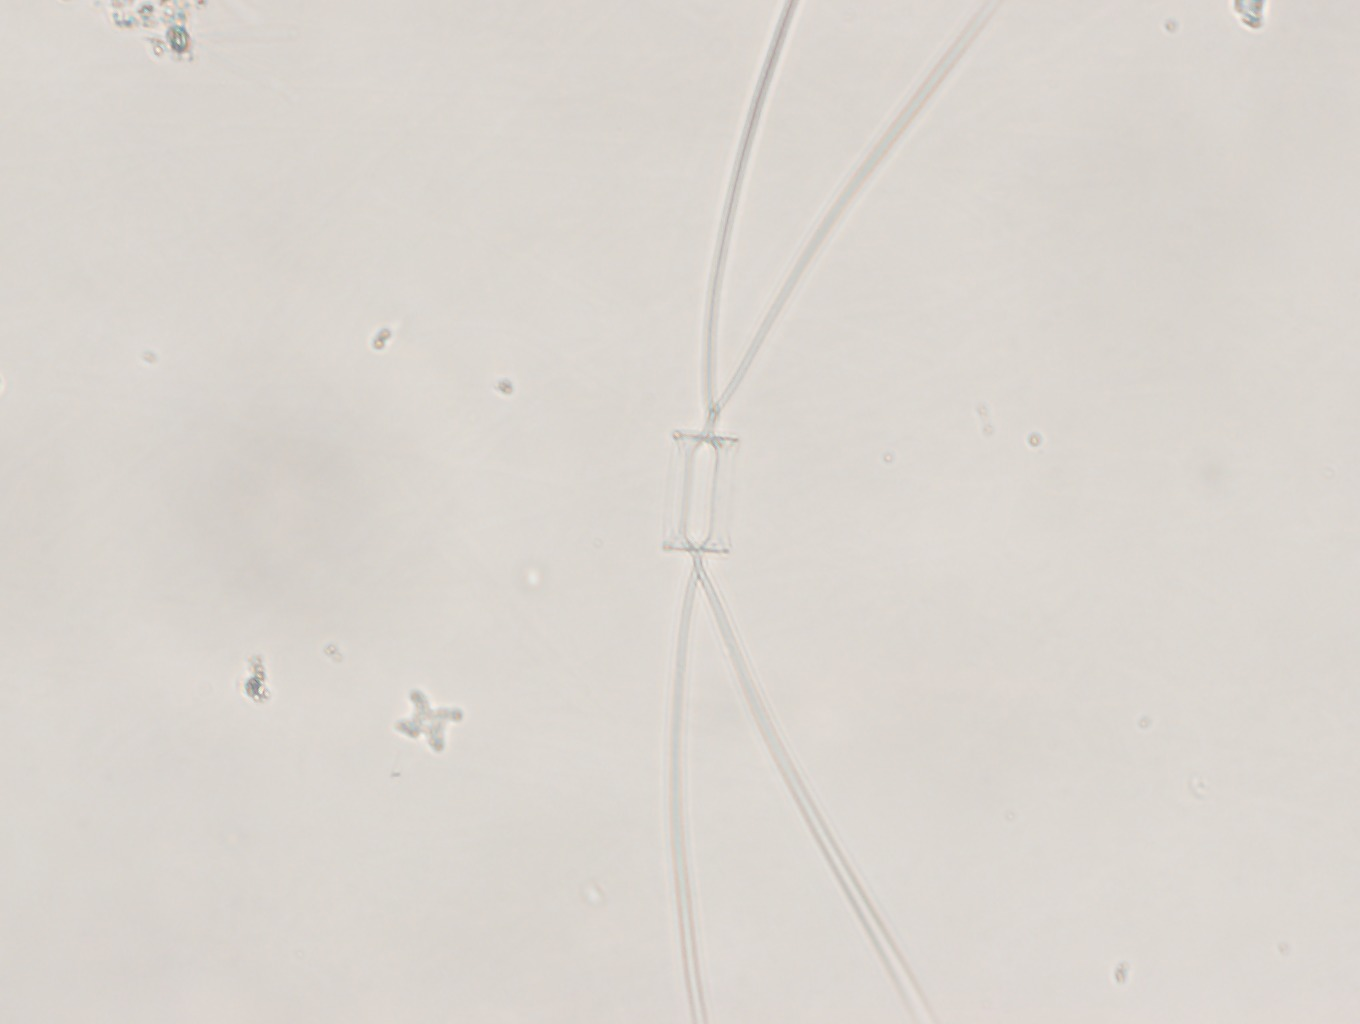chaetoceros: (646, 1, 992, 1024)
